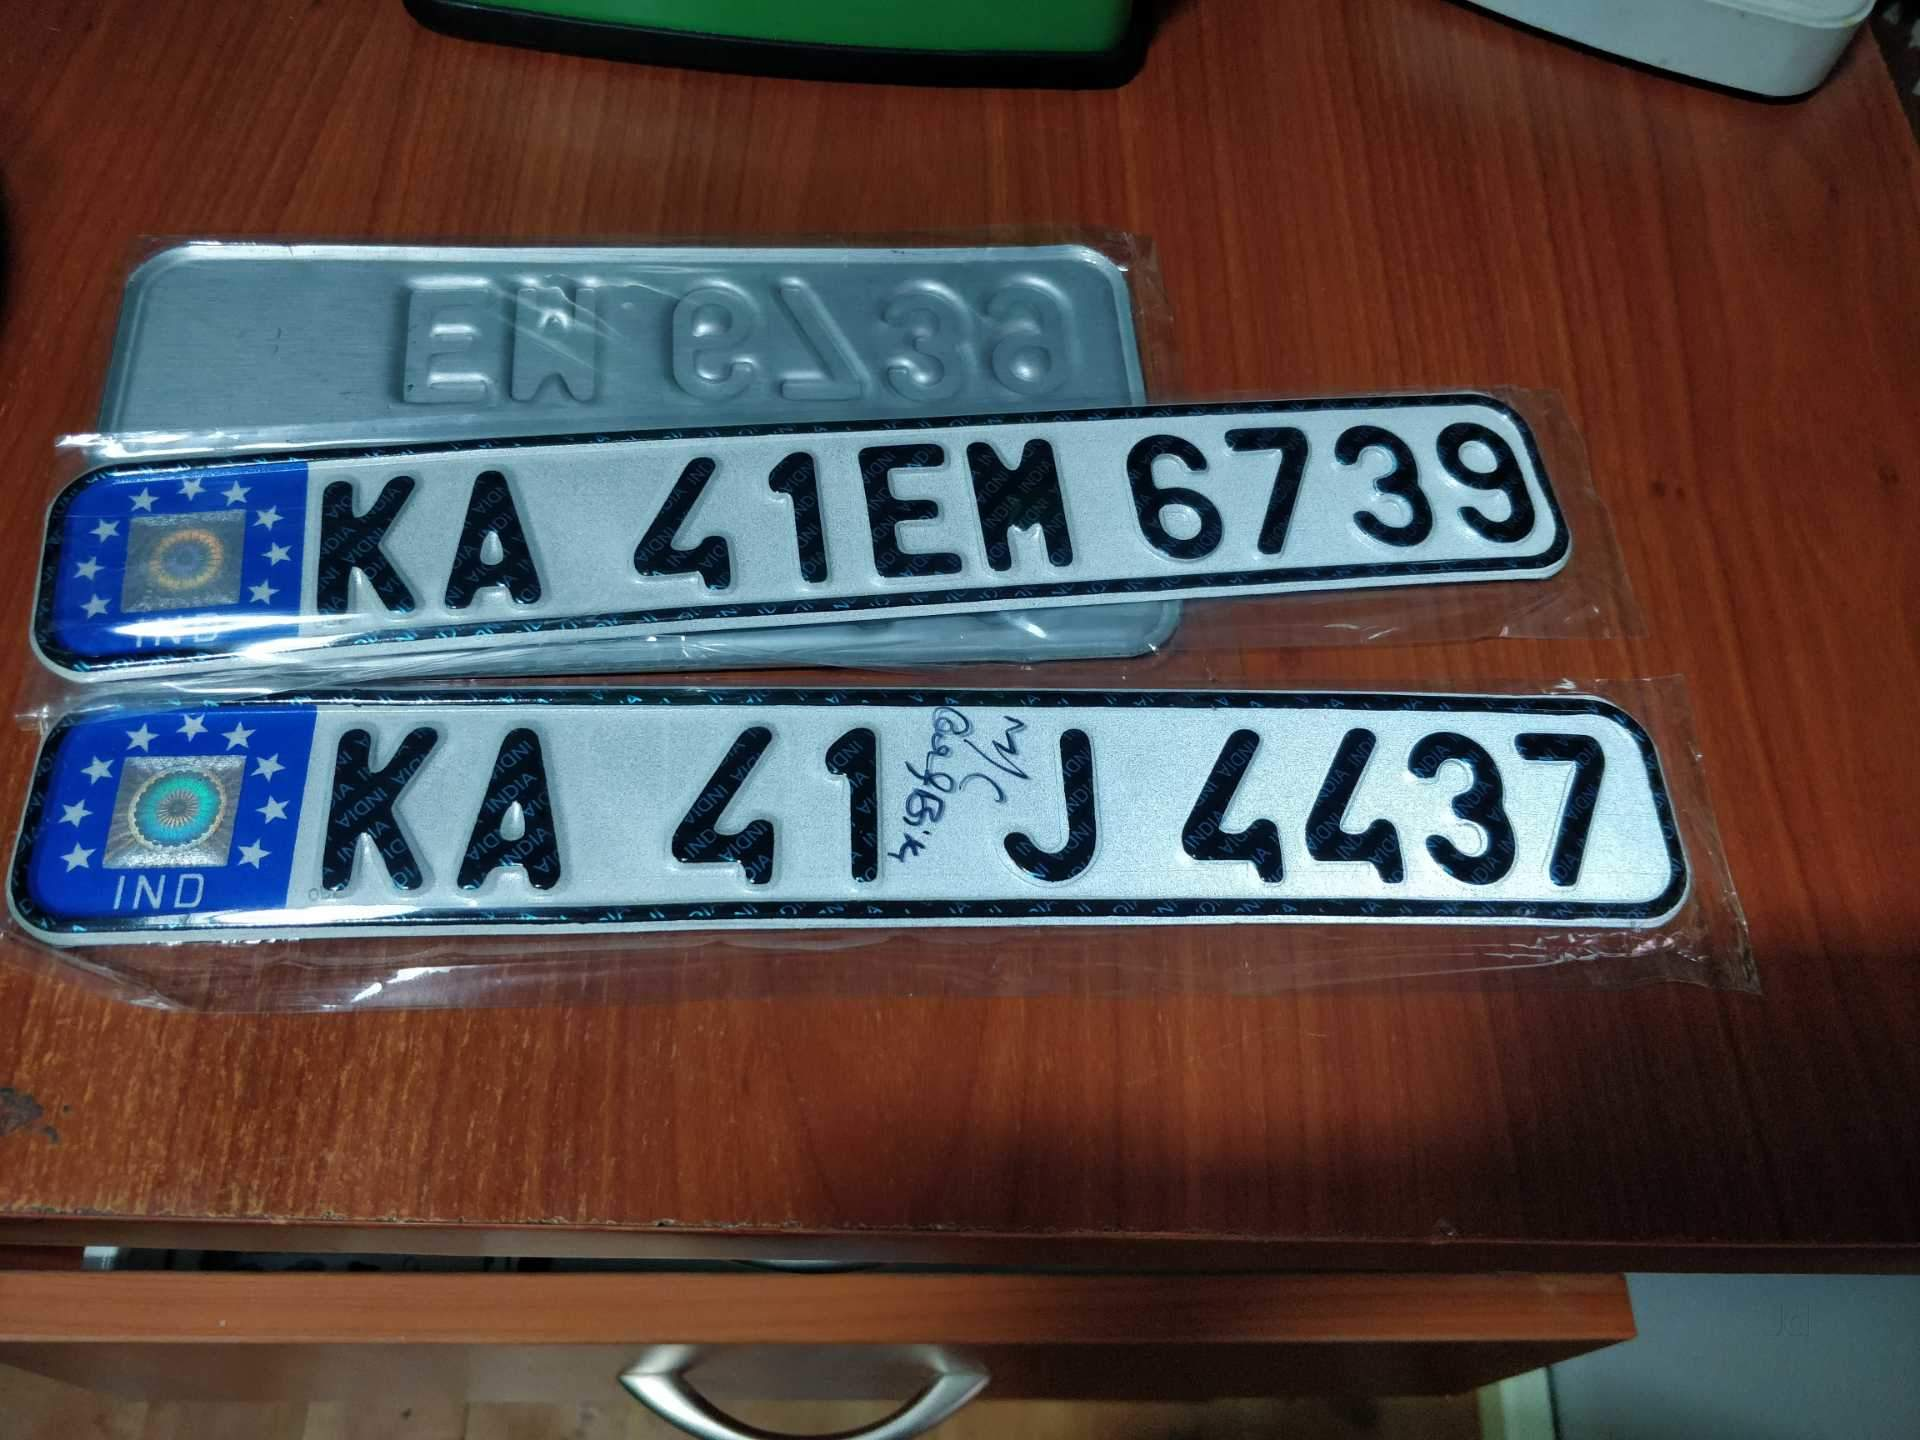number_plate: (13, 678, 1695, 934), (25, 398, 1581, 660)
